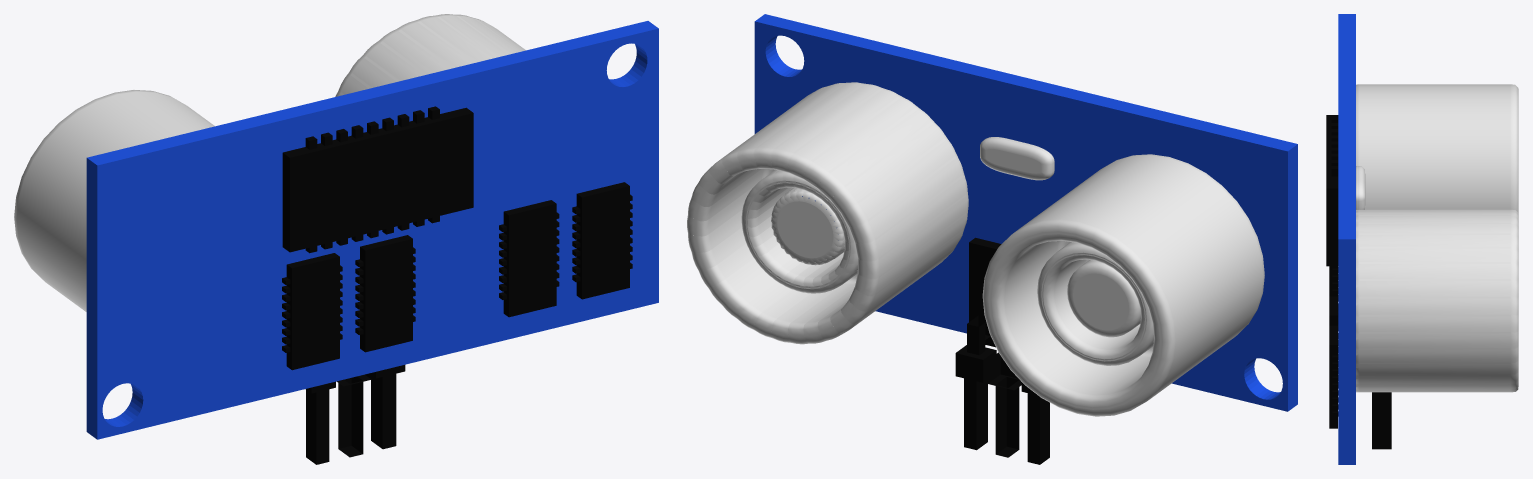
File: ultrasonic.glb
3 views of the same model, side by side, from view 1: azimuth 30°, elevation 25°; view 2: azimuth 150°, elevation 25°; view 3: azimuth 270°, elevation 25° (orthographic). The views are drawn at different scales.
Parts seen in each view (by area): view 1: left; view 2: left; view 3: left.
Boxes of the visible parts, x1=… form: left: x1=14, y1=14, x2=658, y2=464; left: x1=687, y1=14, x2=1297, y2=464; left: x1=1326, y1=14, x2=1518, y2=464.
Size of the model in its own units: 1.33 by 0.8473 by 0.4808.
